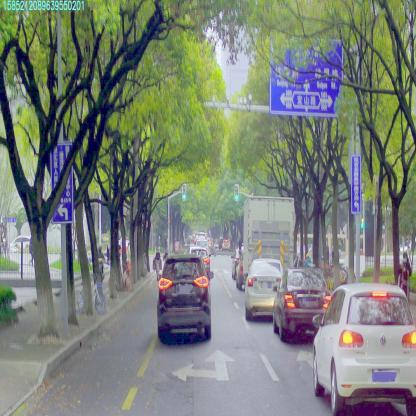traffic-light: (182, 184, 186, 200), (235, 184, 238, 201)
